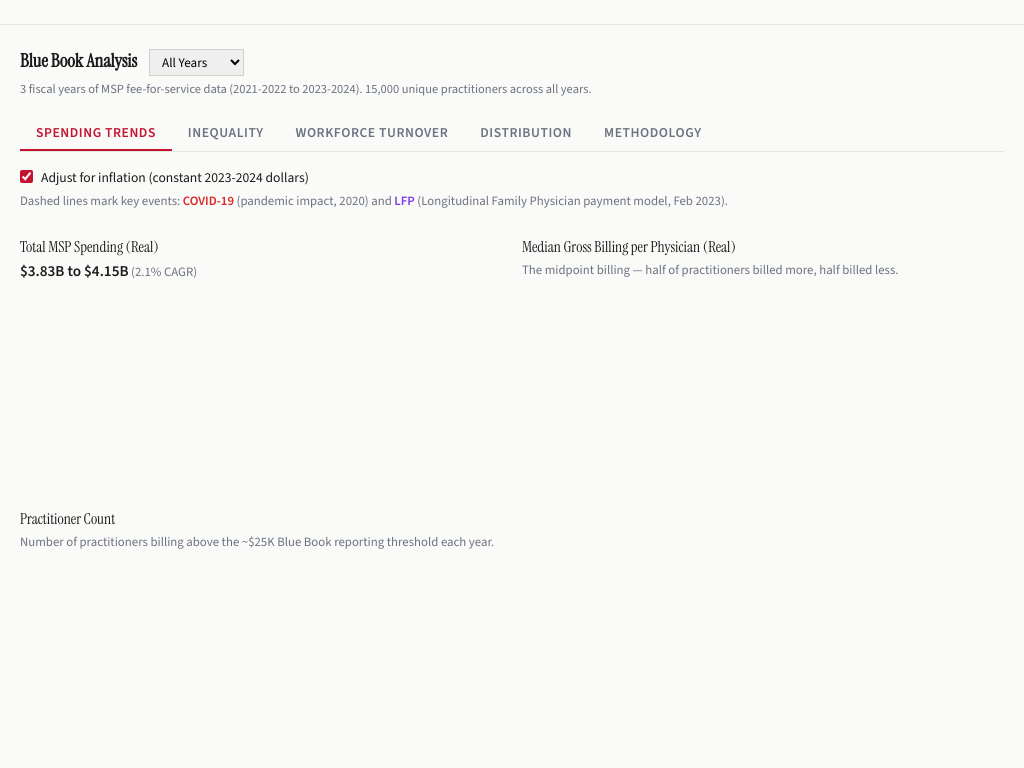
Test: BillingTrends › shows methodology tab with caveats
The width and height of the screenshot is (1024, 768).
What coordinates should you click on to do the following:
click the button "Methodology"
I would click on:
 (653, 133)
Its box is x1=588 y1=115 x2=718 y2=151.
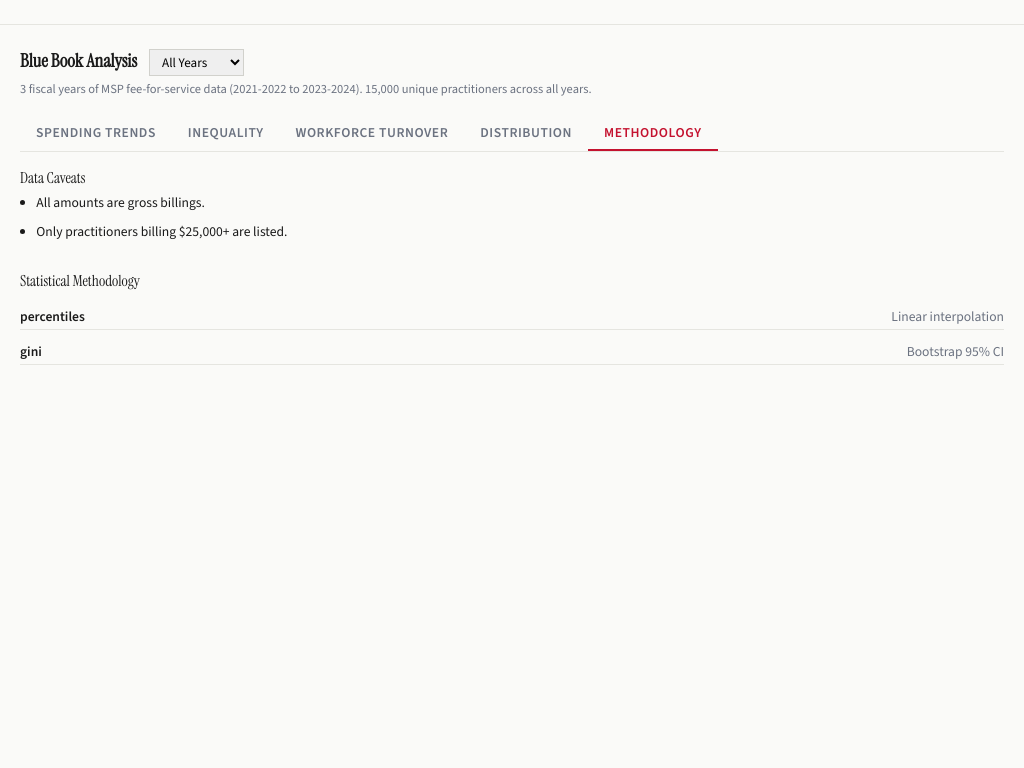
Now the heading "Data Caveats" is shown, box x1=20 y1=168 x2=85 y2=188
Now the heading "Statistical Methodology" is shown, box x1=20 y1=271 x2=140 y2=291
